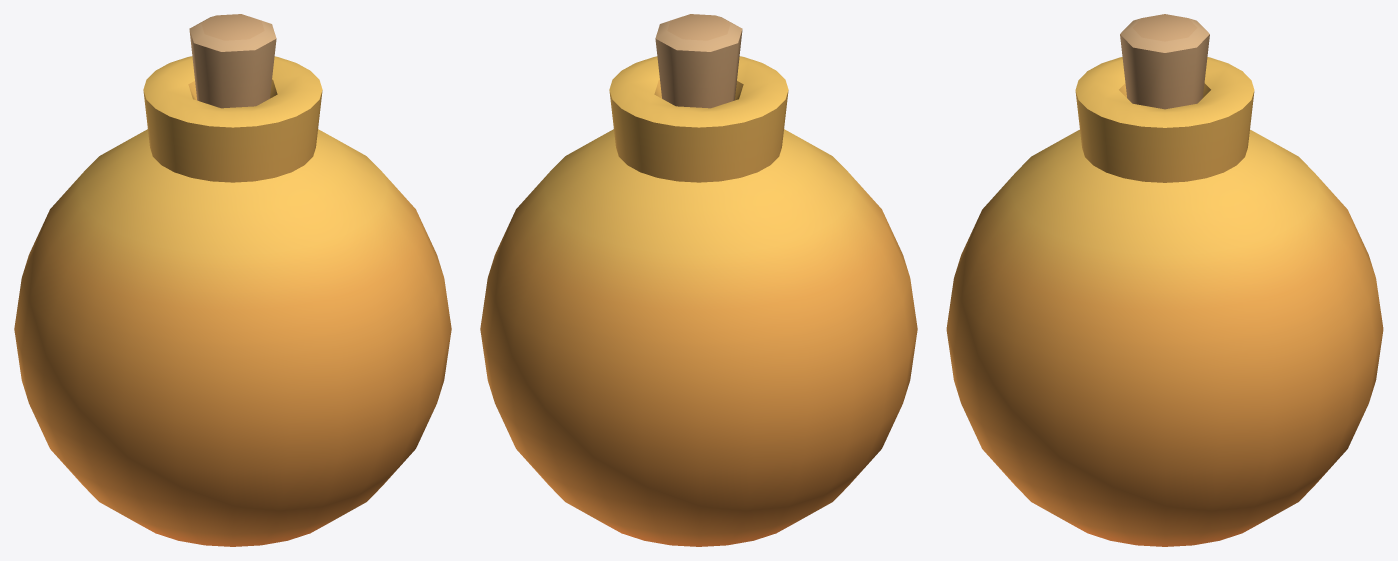
File: kaykit_bomb_A_yellow.glb
3 renders of one model, left to right at view 1: azimuth 30°, elevation 25°; view 2: azimuth 150°, elevation 25°; view 3: azimuth 270°, elevation 25°, orthographic.
Visible parts, largest first — view 1: bomb_A_yellow_visual; view 2: bomb_A_yellow_visual; view 3: bomb_A_yellow_visual.
Boxes of the visible parts, x1,y1,x2,y2 form: bomb_A_yellow_visual: (14,14,451,546); bomb_A_yellow_visual: (480,14,917,546); bomb_A_yellow_visual: (946,14,1383,546).
Size of what is drawn, in the model's own units: 0.8 by 1.01 by 0.8.
1 material, 1 textured.
